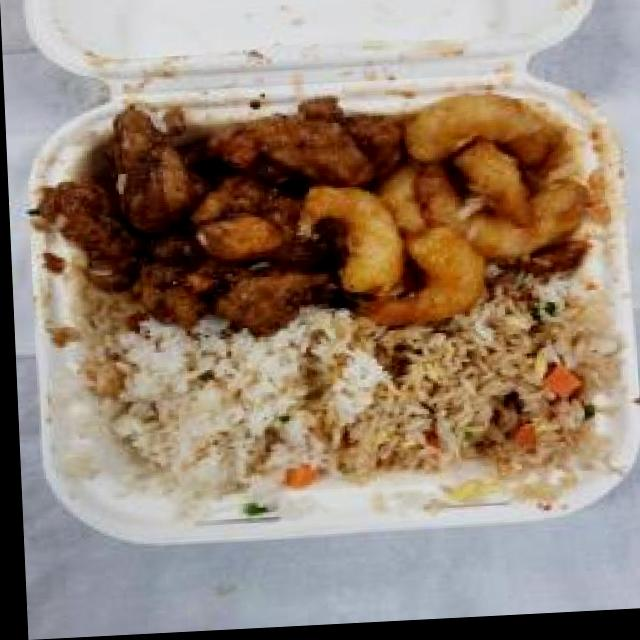Fried Rice: (266, 303, 618, 515)
Honey Walnut Shrimp: (297, 83, 615, 319)
The Original Orange Chicken: (31, 89, 398, 357)
White Steamed Rice: (49, 314, 296, 513)
